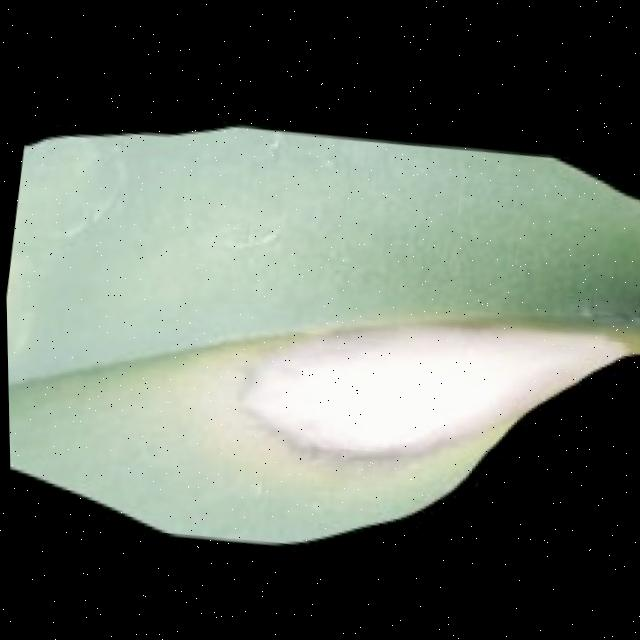mite: (5, 0, 640, 628), (324, 0, 640, 31), (412, 0, 538, 16), (446, 0, 509, 13), (430, 0, 512, 8), (629, 303, 640, 330)
